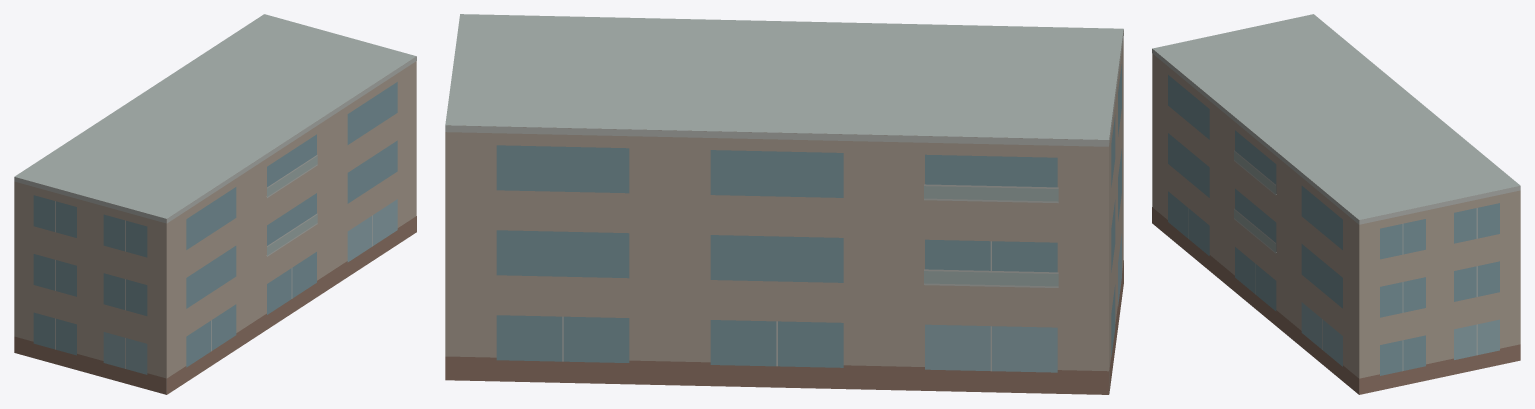
Rendered from survey-upis-32934694.glb.
3 renders of one model, left to right at view 1: azimuth 30°, elevation 25°; view 2: azimuth 150°, elevation 25°; view 3: azimuth 270°, elevation 25°, orthographic. The views are drawn at different scales.
Parts seen in each view (by area): view 1: survey-upis-32934694.tmp; view 2: survey-upis-32934694.tmp; view 3: survey-upis-32934694.tmp.
Part boxes in pixels (x1,y1,x2,y2): survey-upis-32934694.tmp: (14,14,416,394); survey-upis-32934694.tmp: (445,14,1123,394); survey-upis-32934694.tmp: (1152,14,1520,394).
Size of the model in its own units: 23.15 by 9.15 by 17.49.
